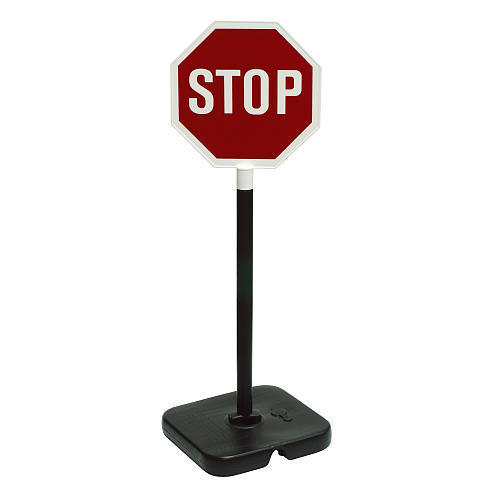stop: (173, 31, 317, 158)
